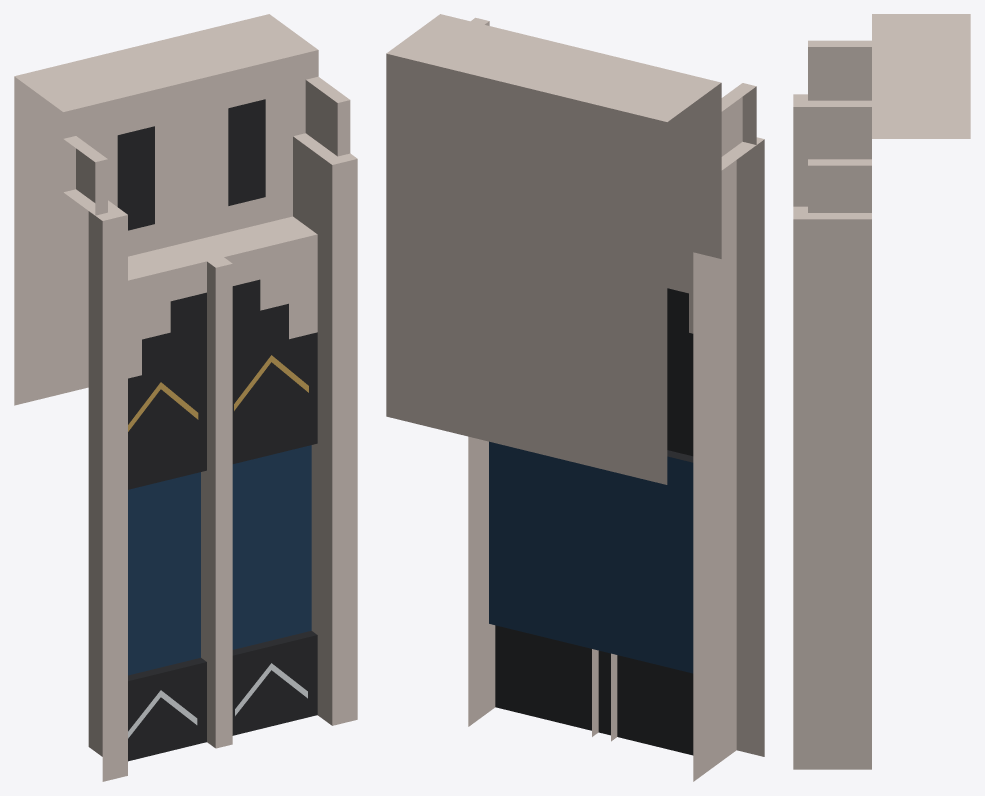
Rendered from top-w1.fbx.
The picture shows the model from 3 angles, left to right: view 1: azimuth 30°, elevation 25°; view 2: azimuth 150°, elevation 25°; view 3: azimuth 270°, elevation 25°; orthographic projection. The views are drawn at different scales.
Parts seen in each view (by area): view 1: a2011/600/top-w1; view 2: a2011/600/top-w1; view 3: a2011/600/top-w1.
Part boxes in pixels (left/top/right/bottom): a2011/600/top-w1: left=14, top=14, right=357, bottom=781; a2011/600/top-w1: left=386, top=14, right=764, bottom=781; a2011/600/top-w1: left=793, top=14, right=970, bottom=769.
Bounding box in the file's own units: 3 × 7.2 × 1.8.
